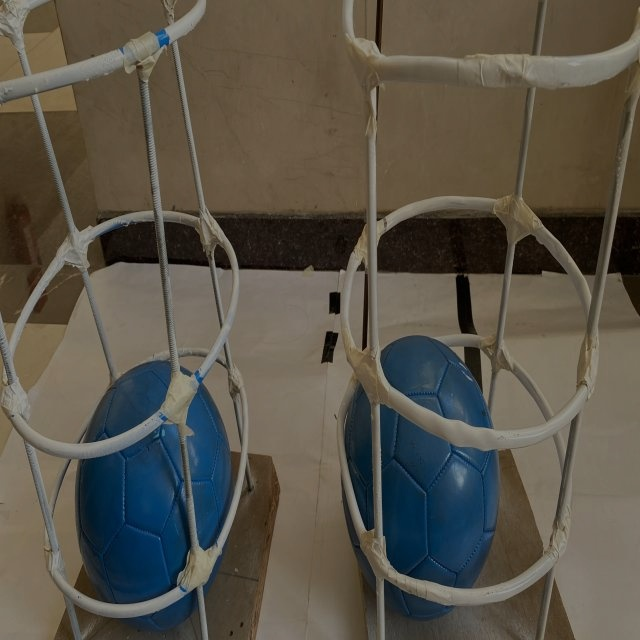blue_ball: (338, 304, 513, 619), (50, 353, 239, 640)
silo: (306, 0, 640, 640), (0, 0, 279, 640)
